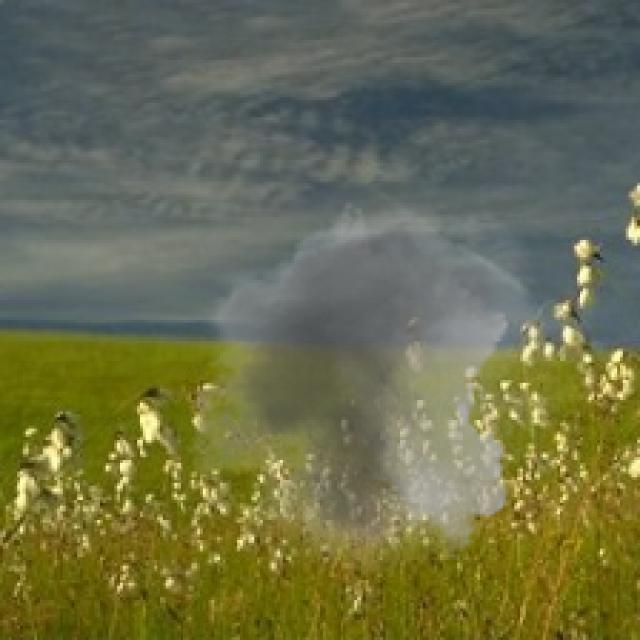Smoke: (168, 188, 594, 574)
